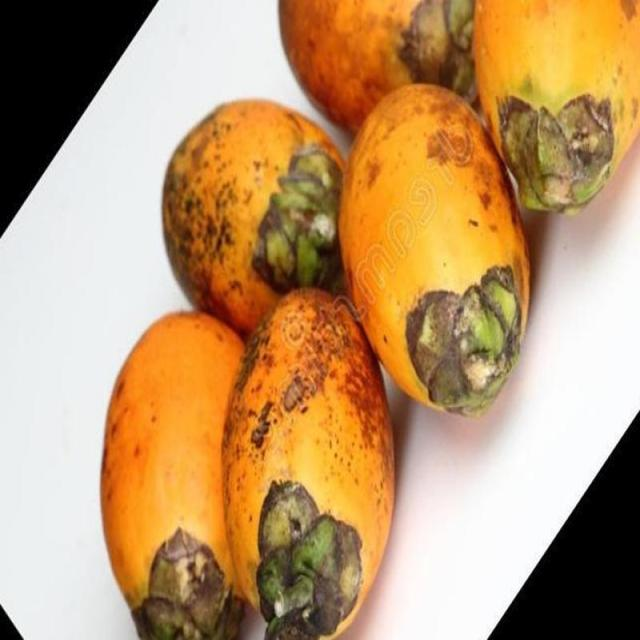good: (338, 84, 533, 420), (220, 288, 397, 639), (99, 311, 254, 639), (161, 100, 350, 341), (470, 0, 639, 216), (277, 0, 474, 136)
